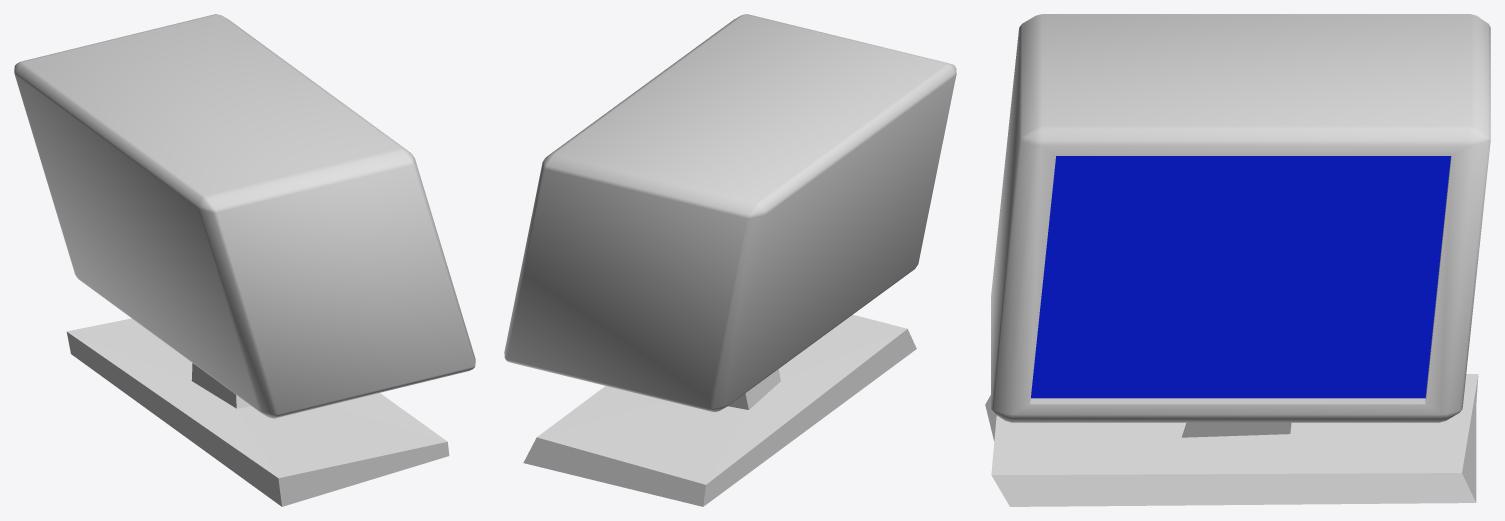
The model's file is monitor 1.fbx.
3 views of the same model, side by side, from view 1: azimuth 30°, elevation 25°; view 2: azimuth 150°, elevation 25°; view 3: azimuth 270°, elevation 25° (orthographic). The views are drawn at different scales.
Parts seen in each view (by area): view 1: Cube.001, Cube; view 2: Cube.001, Cube; view 3: Cube.001, Cube.
Part boxes in pixels (bbox=[...]): Cube.001: bbox=[14, 14, 475, 418]; Cube: bbox=[66, 318, 449, 506]; Cube.001: bbox=[504, 14, 956, 412]; Cube: bbox=[523, 314, 916, 506]; Cube.001: bbox=[991, 14, 1490, 422]; Cube: bbox=[985, 374, 1478, 506].
Size of the model in its own units: 151 by 167 by 212.
